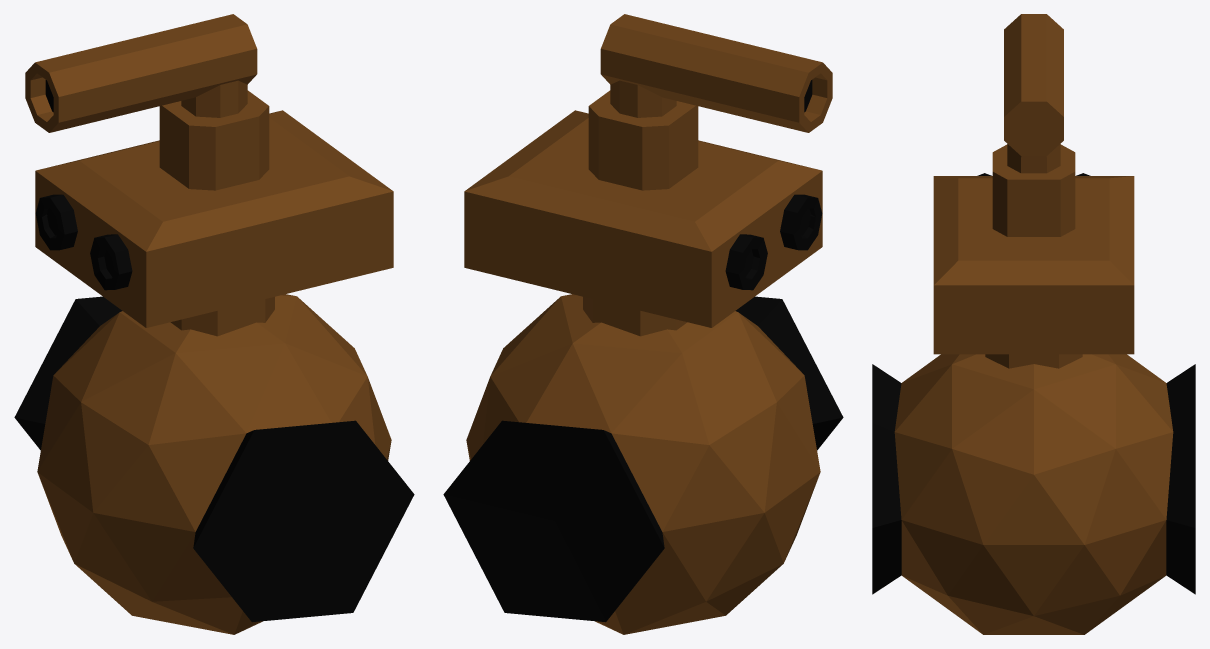
The model's file is Enemy1.fbx.
The picture shows the model from 3 angles, left to right: view 1: azimuth 30°, elevation 25°; view 2: azimuth 150°, elevation 25°; view 3: azimuth 270°, elevation 25°; orthographic projection. The views are drawn at different scales.
Parts seen in each view (by area): view 1: Icosphere, Cube; view 2: Icosphere, Cube; view 3: Icosphere, Cube.
Boxes of the visible parts, x1,y1,x2,y2 form: Icosphere: [14, 294, 414, 634]; Cube: [25, 14, 393, 336]; Icosphere: [443, 294, 843, 634]; Cube: [464, 14, 832, 336]; Icosphere: [872, 354, 1195, 634]; Cube: [933, 14, 1134, 368].
Size of the model in its own units: 205 by 362 by 197.
